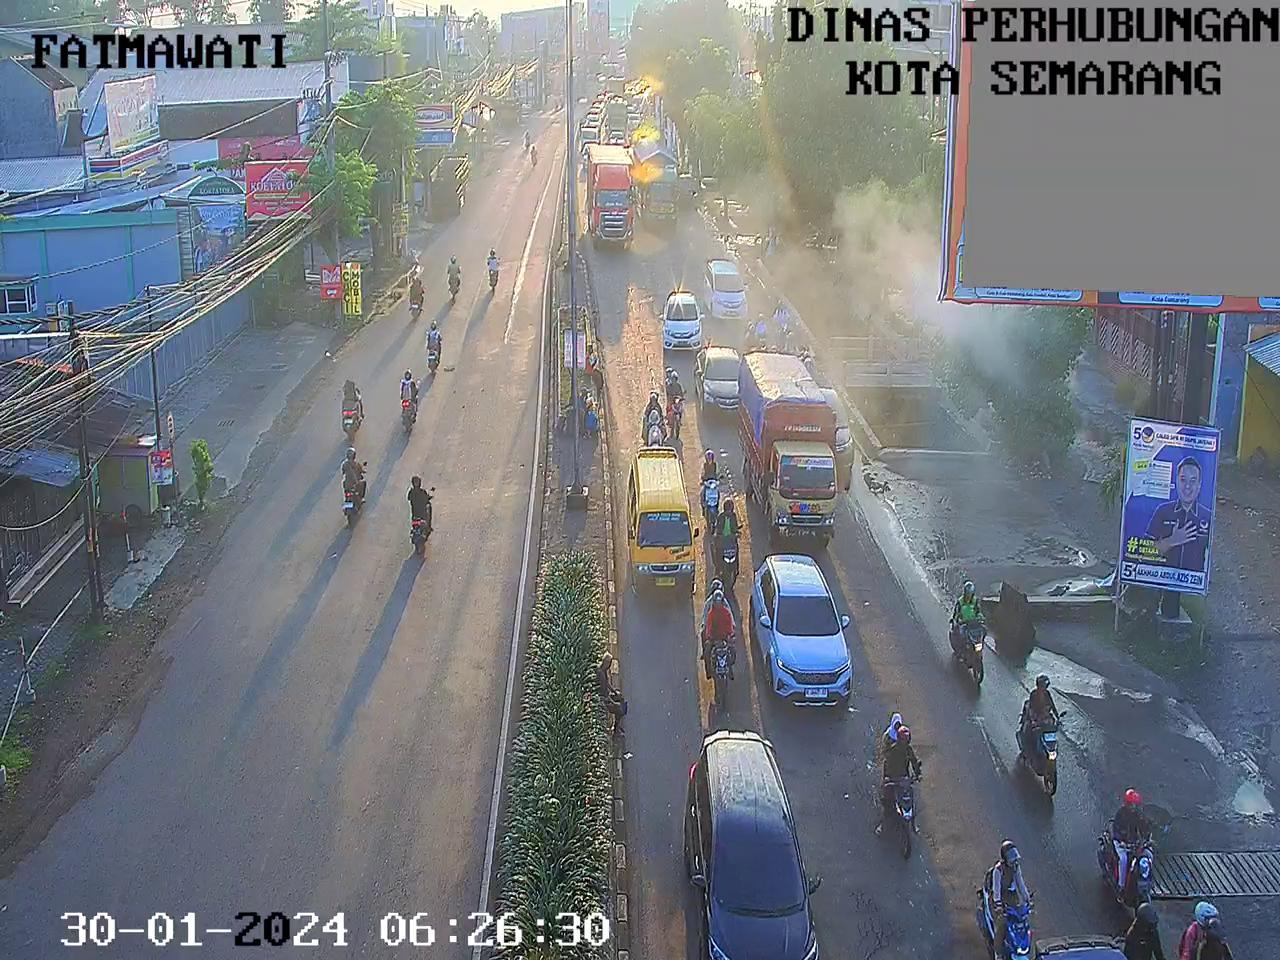car: (687, 724, 827, 960), (749, 549, 858, 708), (621, 453, 696, 594), (817, 377, 858, 494), (696, 346, 747, 418), (659, 287, 707, 351), (708, 256, 749, 322), (580, 126, 602, 145), (609, 129, 625, 148), (586, 112, 600, 125), (628, 115, 640, 128), (583, 119, 597, 128), (591, 106, 604, 115), (612, 96, 621, 105), (594, 100, 602, 109), (625, 86, 632, 96), (637, 86, 643, 97), (641, 80, 649, 88), (631, 98, 638, 107), (628, 105, 635, 113)
motorcycle: (1093, 784, 1166, 918), (877, 712, 934, 867), (971, 829, 1038, 960), (1011, 660, 1060, 811), (694, 582, 738, 713), (949, 581, 989, 694), (1183, 899, 1240, 960), (709, 498, 744, 597), (1122, 900, 1171, 960), (697, 446, 727, 528), (661, 368, 688, 442), (764, 298, 794, 359), (643, 391, 669, 453), (743, 309, 769, 358)
truck: (742, 348, 842, 550), (585, 145, 634, 252), (634, 135, 682, 230), (610, 102, 628, 132), (608, 75, 624, 96)
